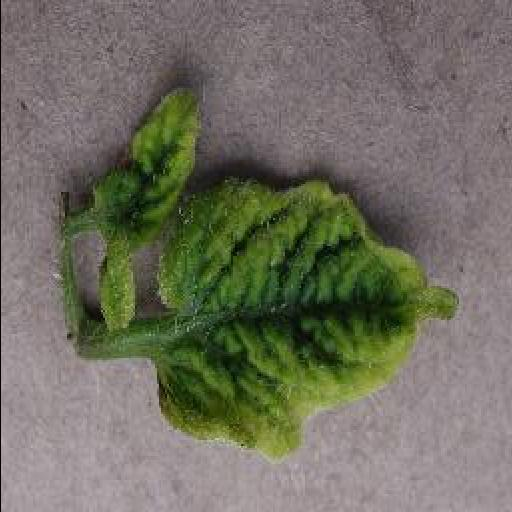disease_tomato: (150, 174, 456, 462), (82, 63, 212, 335)
